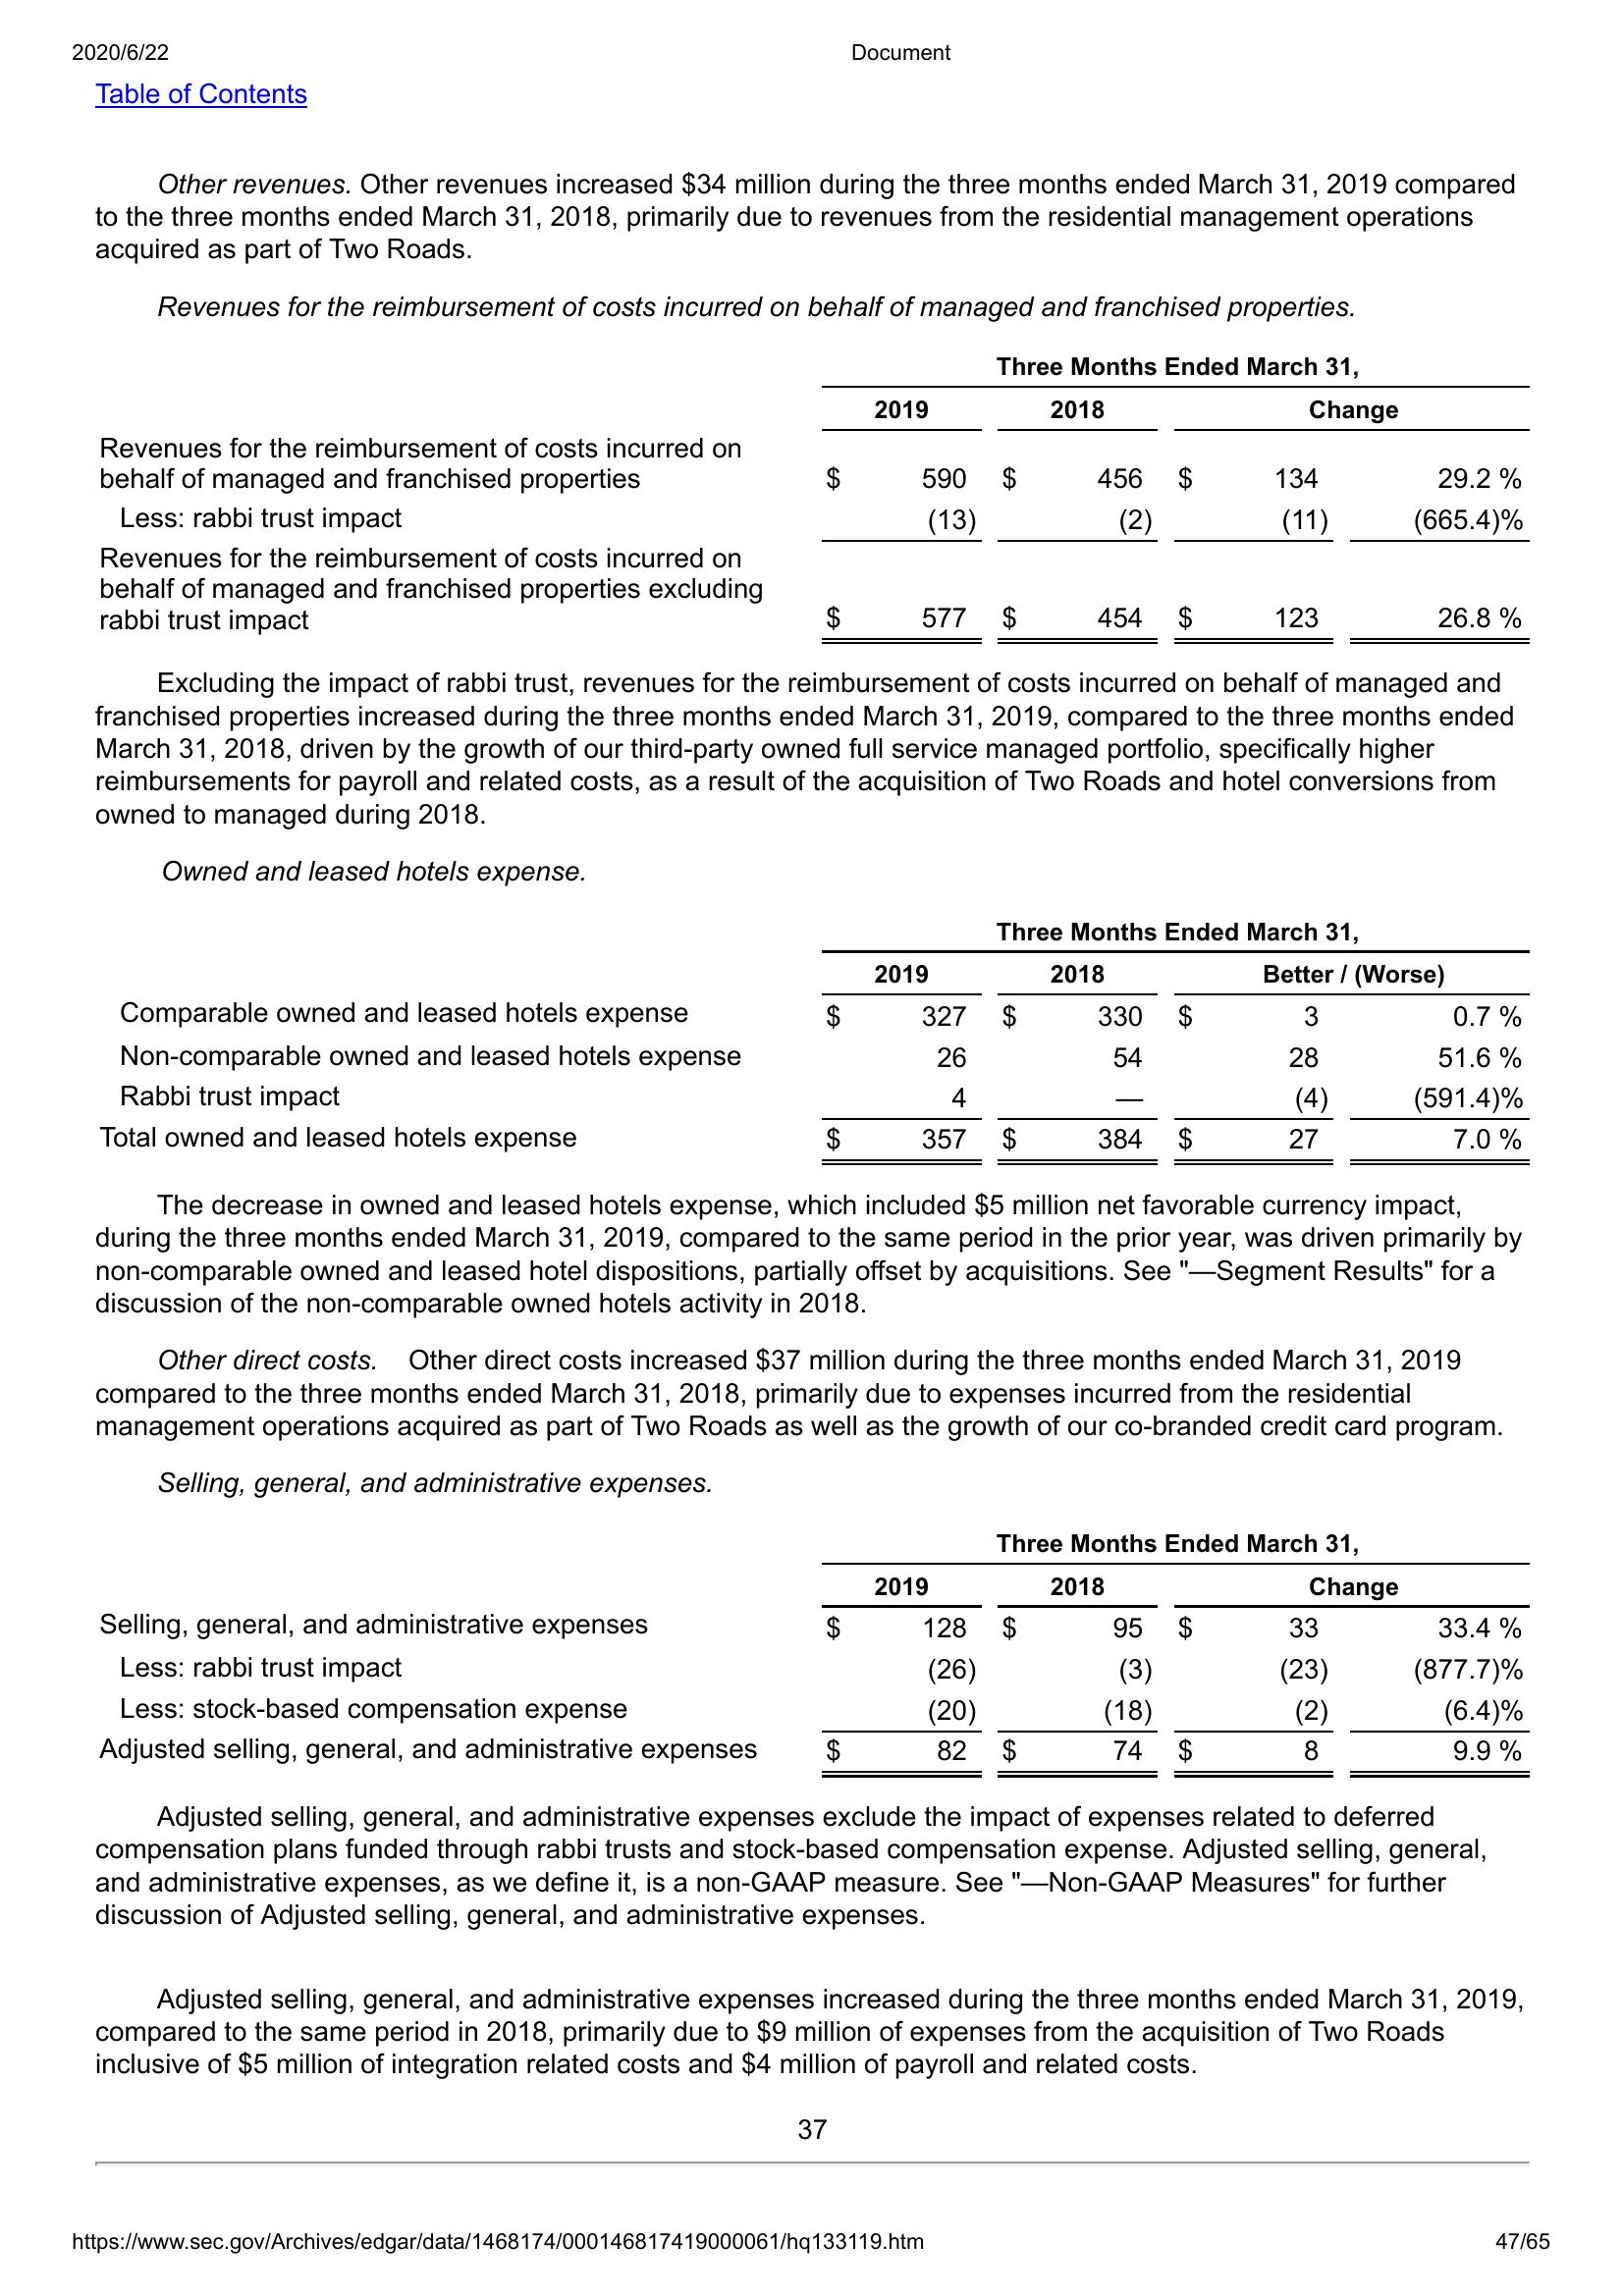table: (95, 346, 1546, 653), (95, 1524, 1535, 1787), (97, 915, 1539, 1174)
